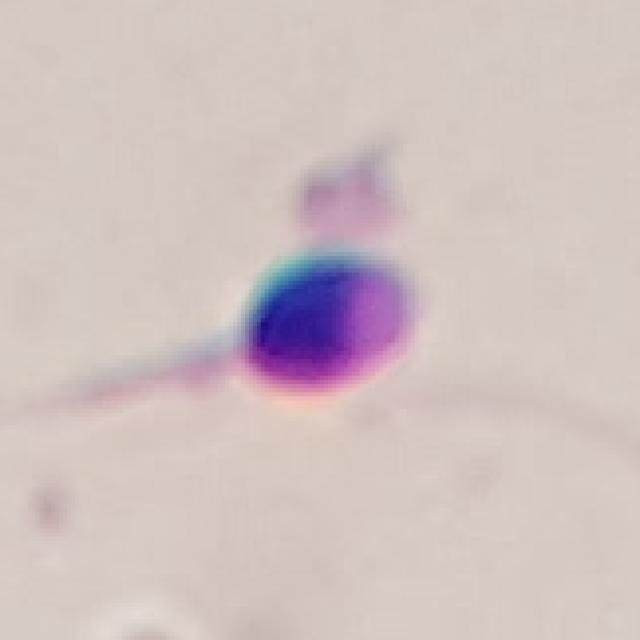normal sperm: (85, 241, 428, 425)
